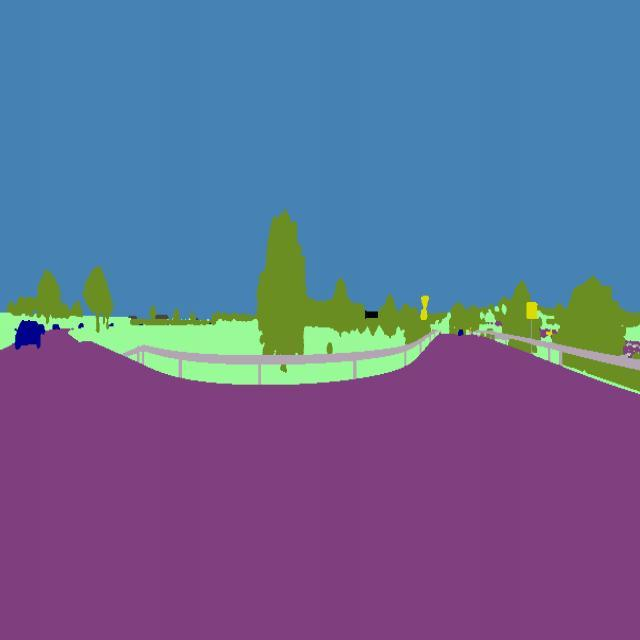safe: (13, 317, 44, 353)
